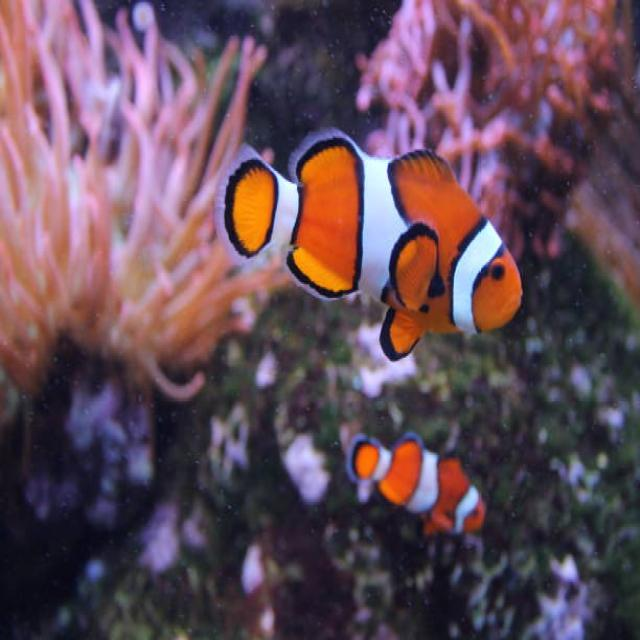ClownFish: (222, 121, 522, 359), (346, 420, 486, 538)
